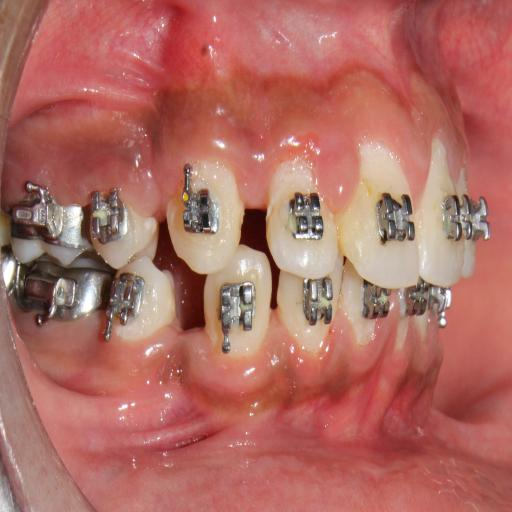correct_brace: (169, 157, 242, 274), (372, 176, 414, 257), (283, 183, 327, 254)
incorrect_brace: (342, 146, 420, 284), (179, 167, 226, 239)
